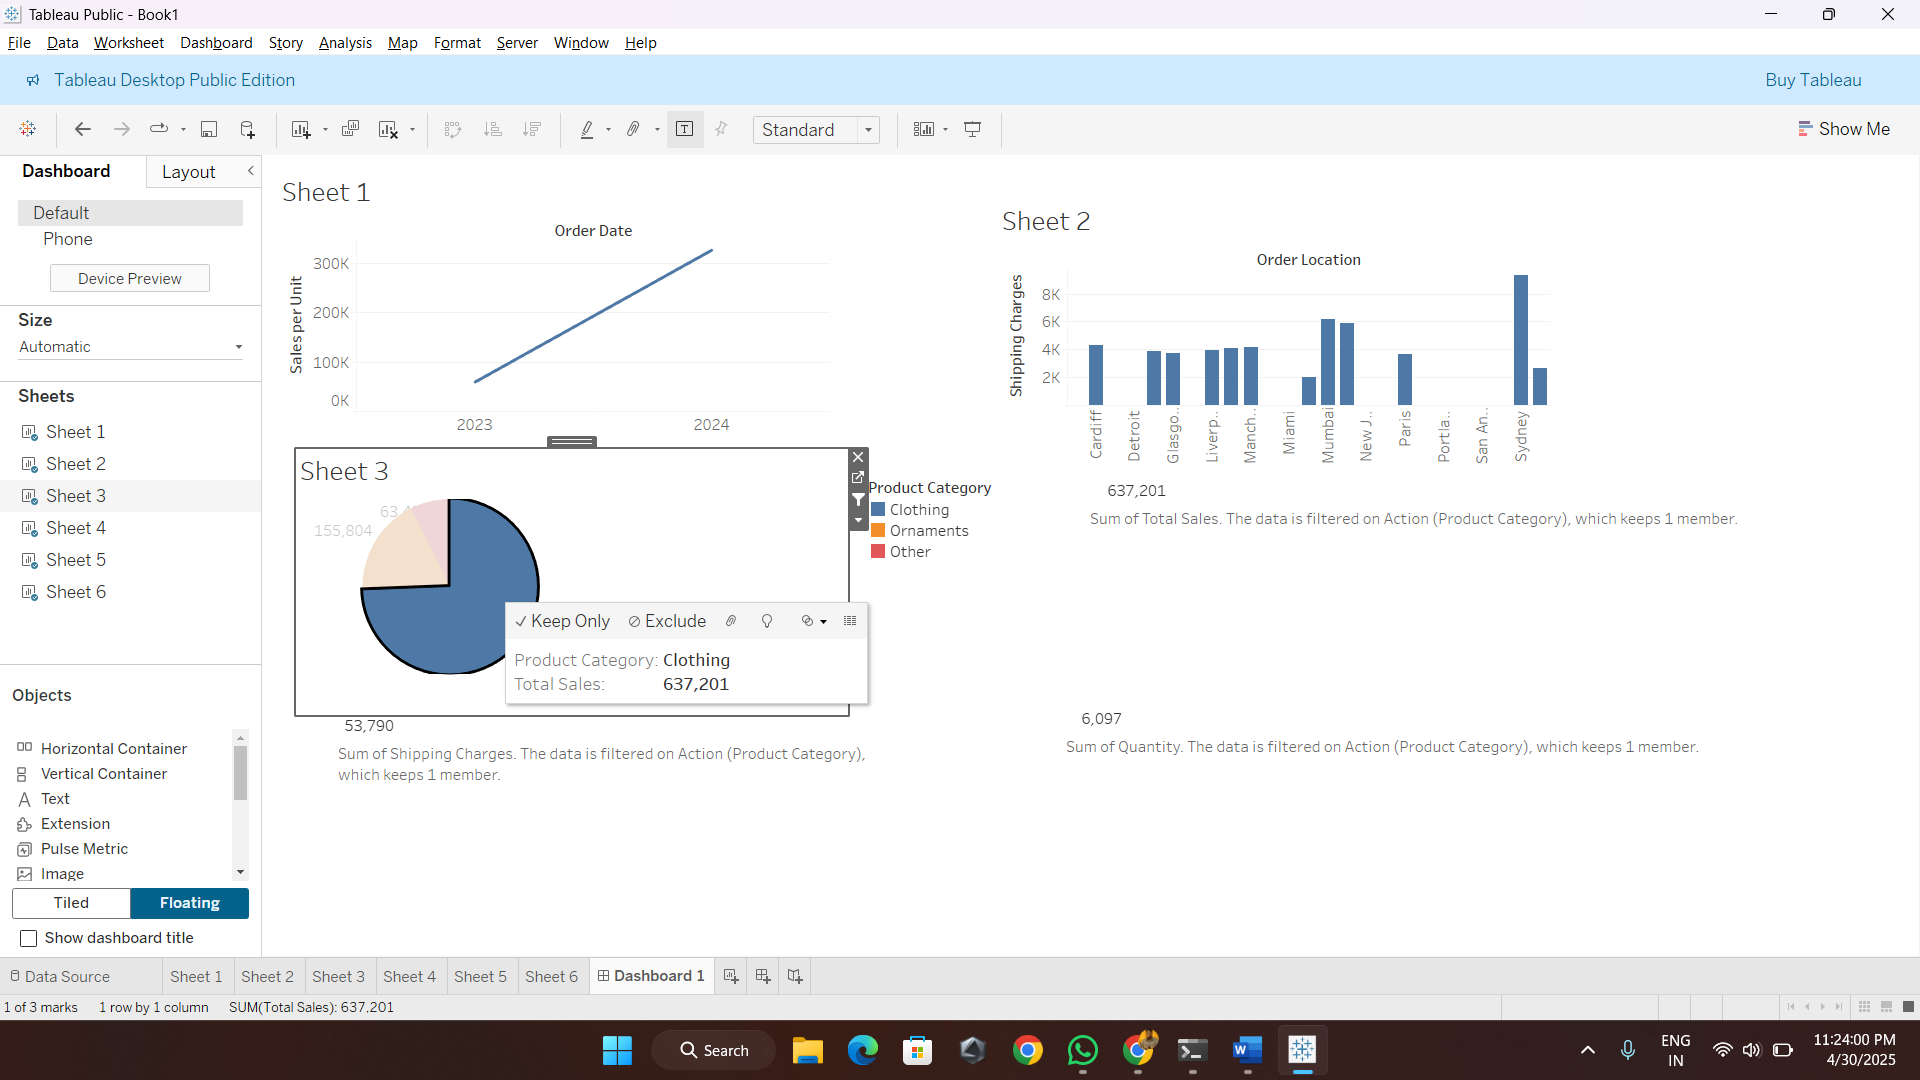

The dashboard page shown, as its layout file describes it:
{"tool":"tableau","page":{"name":"Dashboard 1","canvas":[1000,1000],"units":"permille","ordinal":0},"visuals":[{"type":"worksheet","title":"Sheet 1","mark":"Automatic","rows":["Sales per Unit"],"cols":["Order Date"],"box":[9.8,19,333,332.5]},{"type":"worksheet","title":"Sheet 2","mark":"Automatic","rows":["Shipping Charges"],"cols":["Order Location"],"box":[444.3,54.4,333,332.5]},{"type":"worksheet","title":"Sheet 3","mark":"Pie","box":[20.7,366.6,333,332.5]},{"type":"legend","title":"Sheet 3","param":"[federated.0y52ri00w7sm6818tsr5o18xbzud].[none:Product Category:nk]","box":[365.7,402,152.8,107.5]},{"type":"worksheet","title":"Sheet 4","mark":"Text","box":[499.7,404.5,395.9,277.2]},{"type":"worksheet","title":"Sheet 6","mark":"Automatic","box":[485.2,689.1,415.2,275.9]}]}

Visuals, with their boxes on the dashboard's canvas, which has no fixed pixel size, in thousandths of its width and height (x1, y1, x2, y2). These are canvas units, not pixel positions in the 1920x1080 screenshot, which may show the page scaled, cropped or inside an application window:
"Sheet 1" worksheet: region(10, 19, 343, 352)
"Sheet 2" worksheet: region(444, 54, 777, 387)
"Sheet 3" worksheet (Pie marks): region(21, 367, 354, 699)
"Sheet 3" legend: region(366, 402, 518, 510)
"Sheet 4" worksheet (Text marks): region(500, 404, 896, 682)
"Sheet 6" worksheet: region(485, 689, 900, 965)
